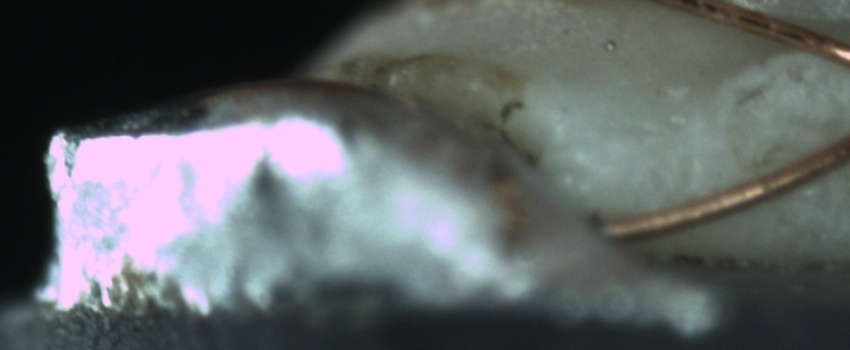DL: (579, 105, 705, 157)
